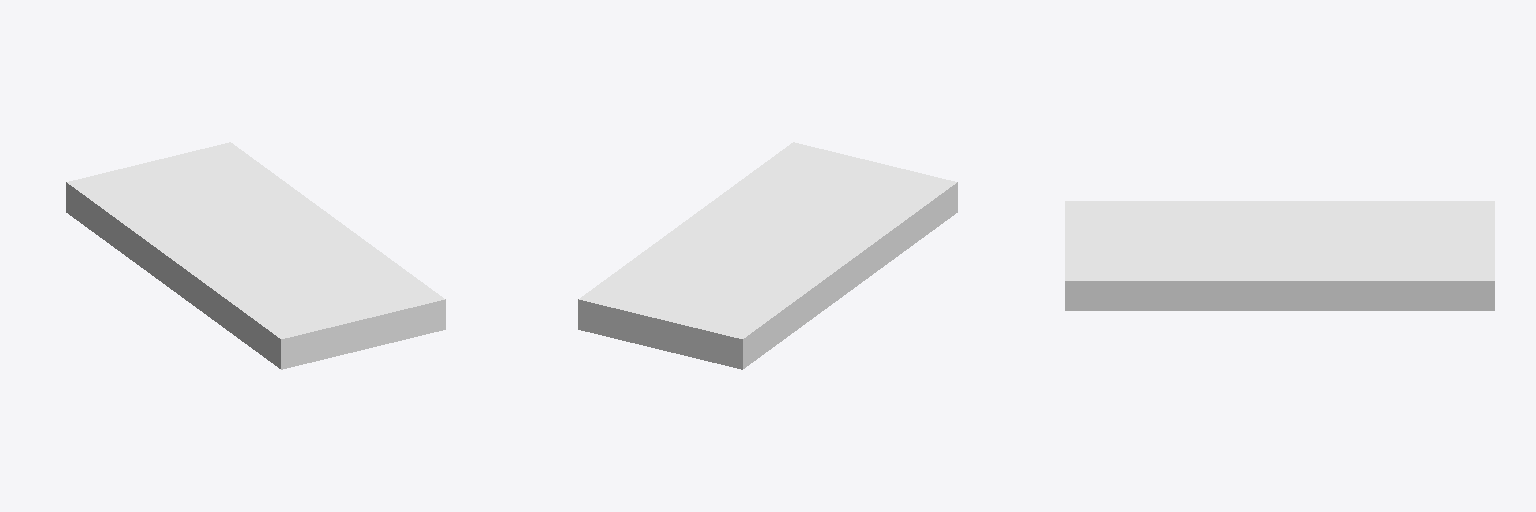
Rendered from Water-1.obj.
3 renders of one model, left to right at view 1: azimuth 30°, elevation 25°; view 2: azimuth 150°, elevation 25°; view 3: azimuth 270°, elevation 25°, orthographic.
Parts seen in each view (by area): view 1: object 1; view 2: object 1; view 3: object 1.
Part boxes in pixels (x1,y1,x2,y2): object 1: (66,142,445,369); object 1: (578,142,957,369); object 1: (1065,201,1494,310).
Bounding box in the file's own units: 3.4 × 0.6 × 7.7.